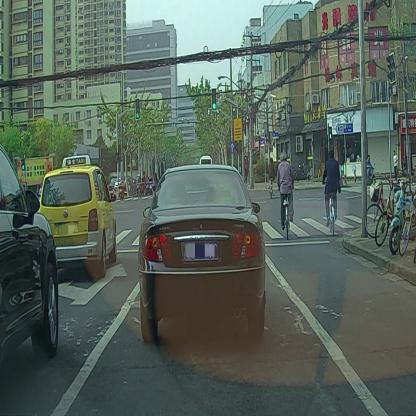Green Light: (211, 89, 216, 112), (136, 99, 140, 121)
